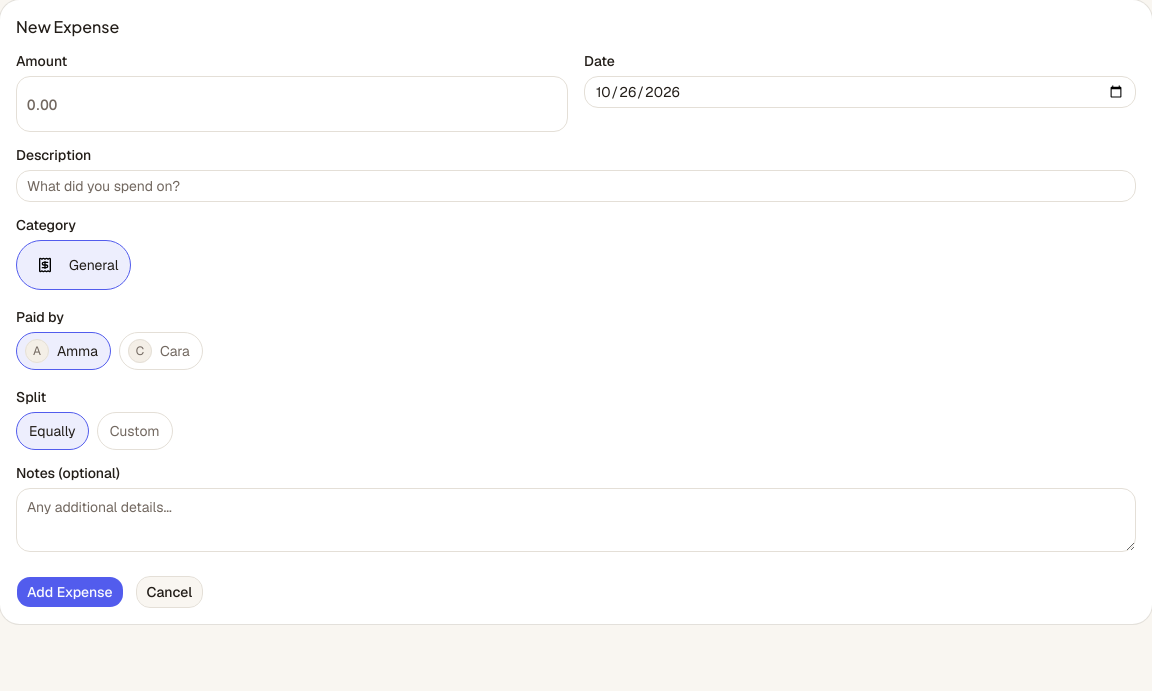
Test: ExpenseForm Split › Custom shares the amount equally among everyone in settle-up
The width and height of the screenshot is (1152, 691).
Type "9" into the number field labelled "Amount". click: [292, 104]
box: [16, 76, 568, 132]
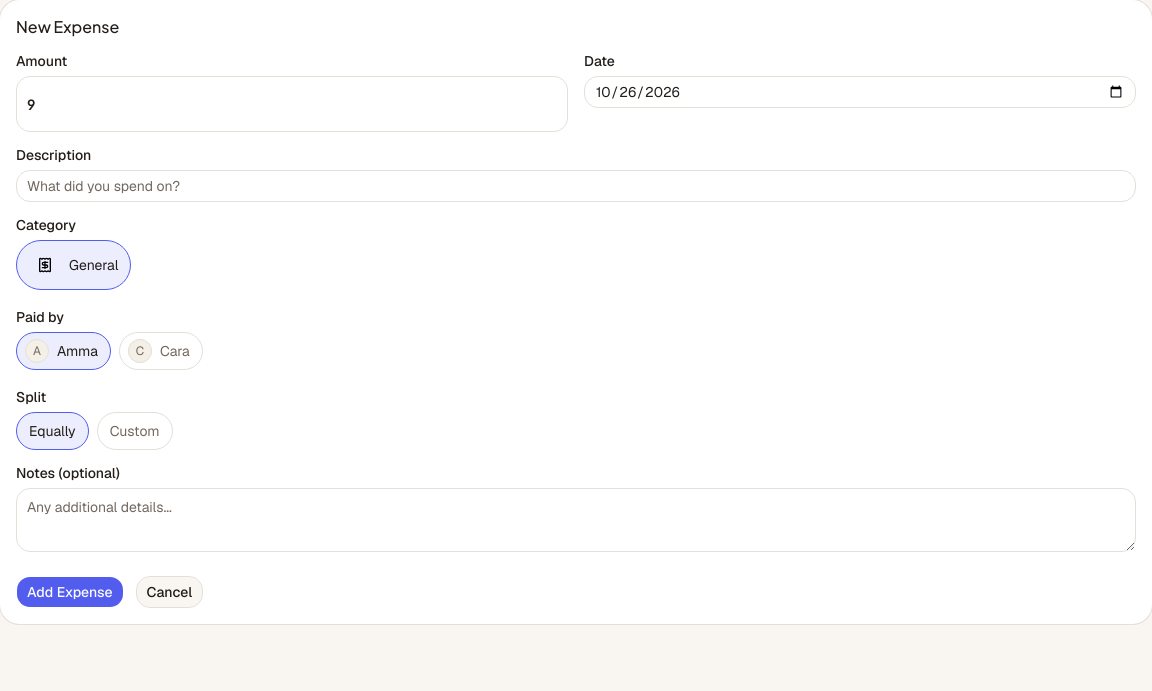
Click the button "Custom". click: [135, 431]
box: [97, 412, 172, 450]
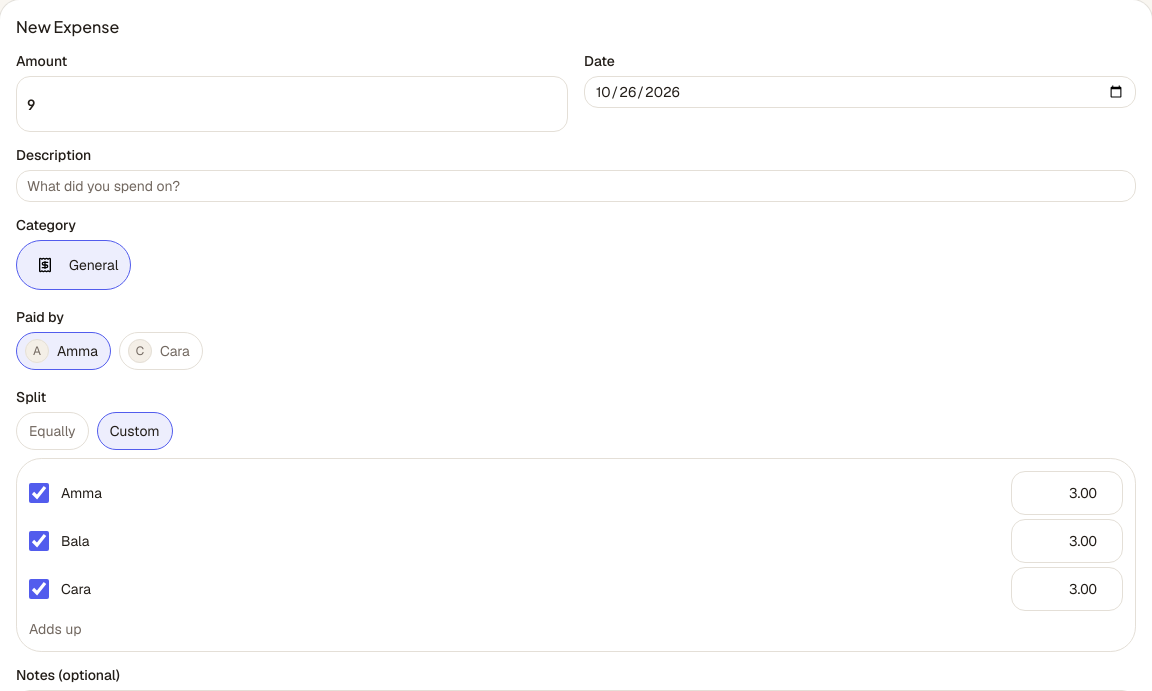
Expected: the number field named "Amma's share" holds "3", [1011, 471, 1123, 515]
Expected: the number field named "Bala's share" holds "3", [1011, 519, 1123, 563]
Expected: the number field named "Cara's share" holds "3", [1011, 567, 1123, 611]
